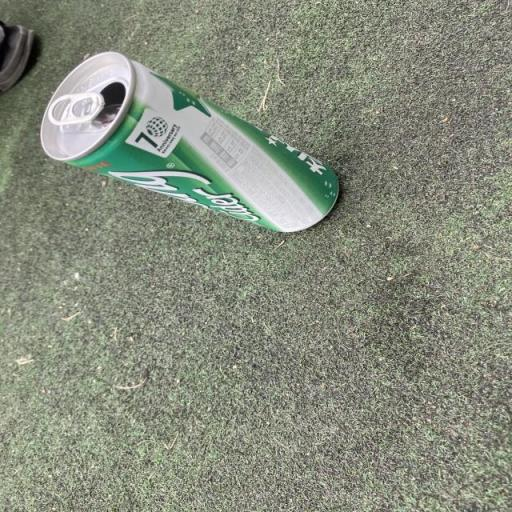metal: (32, 47, 349, 284)
